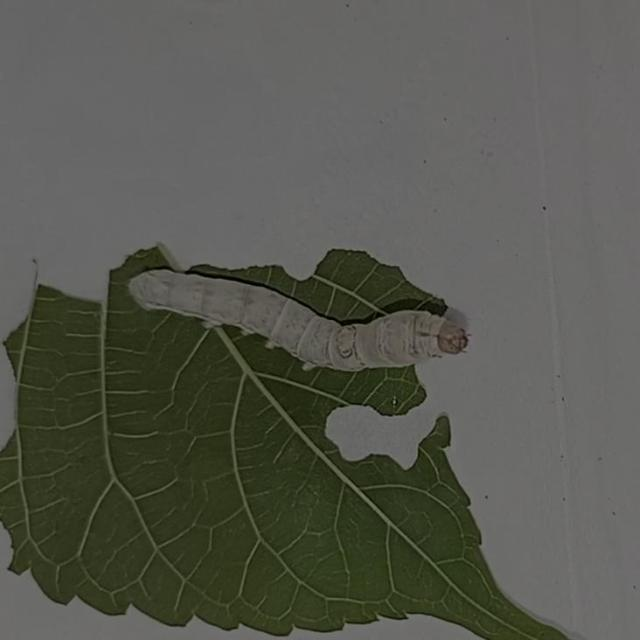Healthy: (120, 252, 480, 382)
